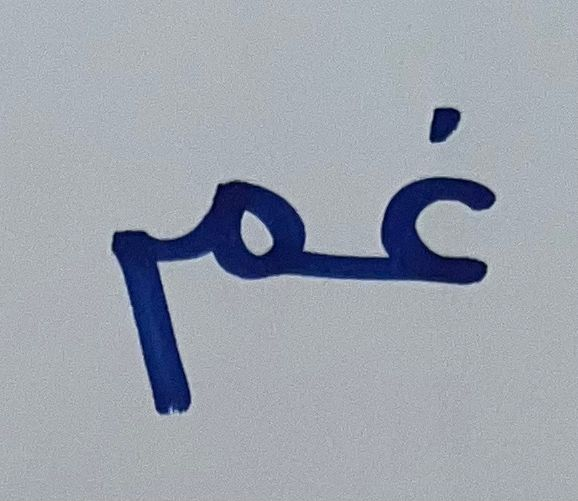feh: (333, 98, 510, 332)
meem: (76, 136, 329, 424)
